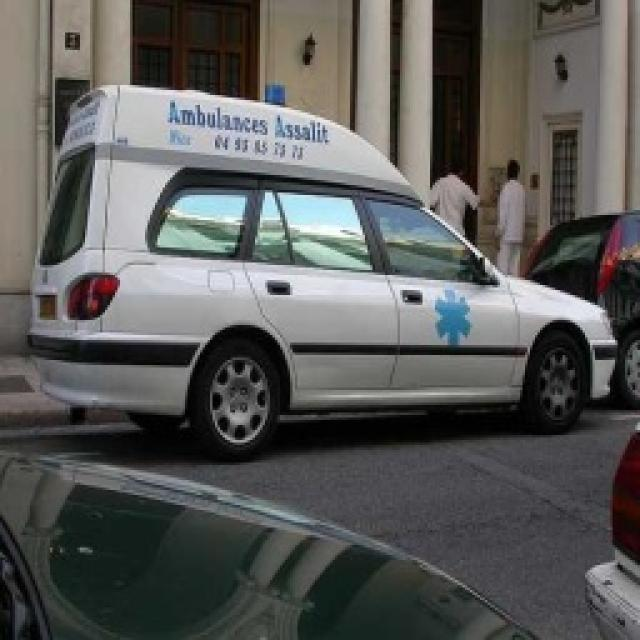emergency-vehicle: (33, 82, 613, 452)
